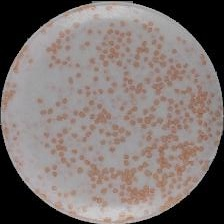54868-5303: (0, 0, 224, 224)
